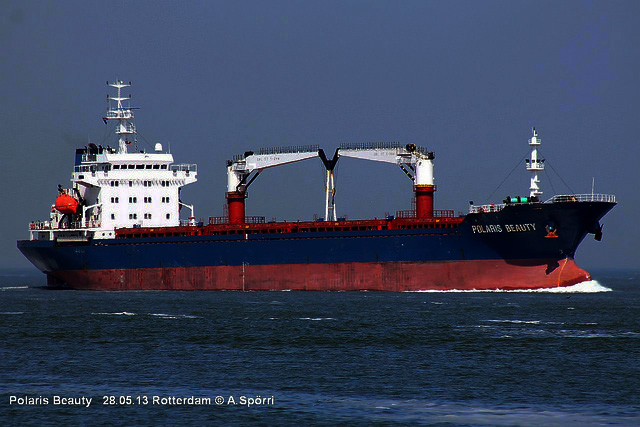bulk carrier: (19, 72, 615, 290)
